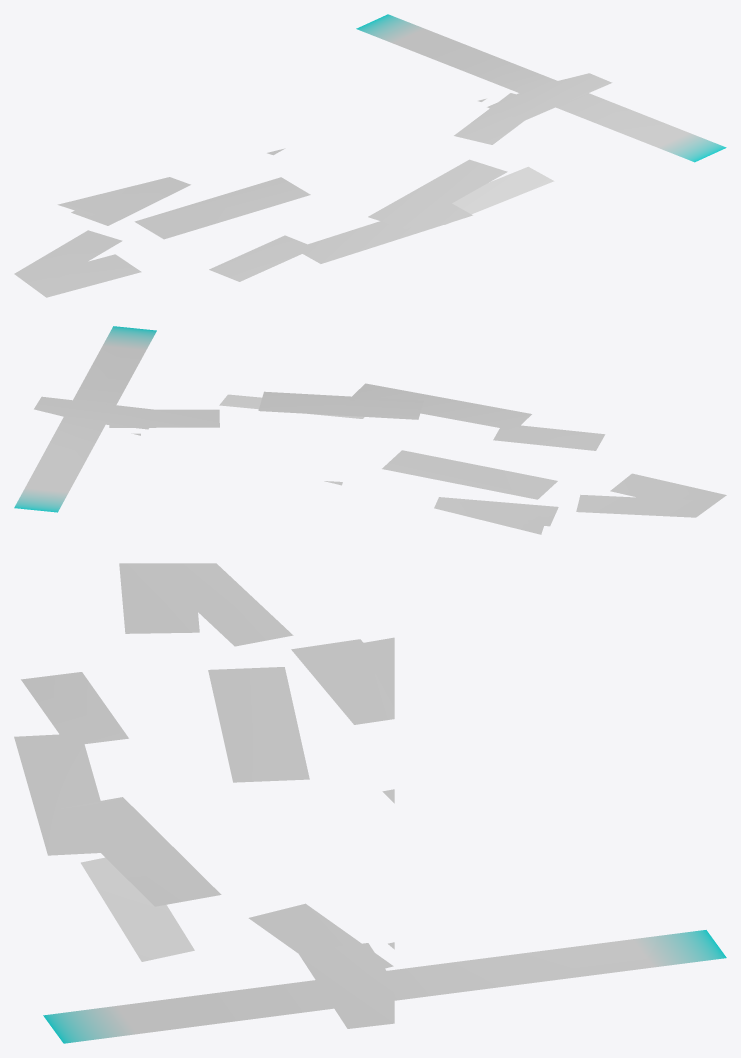
Rendered from cell_153_110.fbx.
The picture shows the model from 3 angles, top to bottom: view 1: azimuth 30°, elevation 25°; view 2: azimuth 150°, elevation 25°; view 3: azimuth 270°, elevation 25°; orthographic projection. The views are drawn at different scales.
Parts seen in each view (by area): view 1: SpaceCenter_Long3_GenerateRoad_Asphalt_PCGMesh_Macadam_Deca., SpaceCenter_Long3_GenerateRoad_Asphalt_PCGMesh_Decal_Mesh_x., SpaceCenter_Long3_GenerateRoad_Asphalt_PCGMesh_Decal_Mesh_x9, SpaceCenter_Long3_GenerateRoad_JTDecal_Asphalt_BM_Line_Mesh.; view 2: SpaceCenter_Long3_GenerateRoad_Asphalt_PCGMesh_Macadam_Deca., SpaceCenter_Long3_GenerateRoad_Asphalt_PCGMesh_Decal_Mesh_x., SpaceCenter_Long3_GenerateRoad_Asphalt_PCGMesh_Decal_Mesh_x9, SpaceCenter_Long3_GenerateRoad_JTDecal_Asphalt_BM_Line_Mesh.; view 3: SpaceCenter_Long3_GenerateRoad_Asphalt_PCGMesh_Macadam_Deca., SpaceCenter_Long3_GenerateRoad_Asphalt_PCGMesh_Decal_Mesh_x., SpaceCenter_Long3_GenerateRoad_Asphalt_PCGMesh_Decal_Mesh_x9, SpaceCenter_Long3_GenerateRoad_JTDecal_Asphalt_BM_Line_Mesh..
Part boxes in pixels (x1,y1,x2,y2): SpaceCenter_Long3_GenerateRoad_Asphalt_PCGMesh_Macadam_Deca.: [14, 73, 612, 297]; SpaceCenter_Long3_GenerateRoad_Asphalt_PCGMesh_Decal_Mesh_x.: [356, 14, 557, 91]; SpaceCenter_Long3_GenerateRoad_Asphalt_PCGMesh_Decal_Mesh_x9: [515, 87, 726, 162]; SpaceCenter_Long3_GenerateRoad_JTDecal_Asphalt_BM_Line_Mesh.: [444, 166, 554, 224]; SpaceCenter_Long3_GenerateRoad_Asphalt_PCGMesh_Macadam_Deca.: [34, 383, 726, 534]; SpaceCenter_Long3_GenerateRoad_Asphalt_PCGMesh_Decal_Mesh_x.: [14, 417, 104, 512]; SpaceCenter_Long3_GenerateRoad_Asphalt_PCGMesh_Decal_Mesh_x9: [73, 326, 156, 426]; SpaceCenter_Long3_GenerateRoad_JTDecal_Asphalt_BM_Line_Mesh.: [219, 394, 364, 418]; SpaceCenter_Long3_GenerateRoad_Asphalt_PCGMesh_Macadam_Deca.: [14, 563, 394, 1028]; SpaceCenter_Long3_GenerateRoad_Asphalt_PCGMesh_Decal_Mesh_x.: [394, 930, 726, 1000]; SpaceCenter_Long3_GenerateRoad_Asphalt_PCGMesh_Decal_Mesh_x9: [43, 970, 394, 1043]; SpaceCenter_Long3_GenerateRoad_JTDecal_Asphalt_BM_Line_Mesh.: [81, 857, 194, 961].
Size of the model in its own units: 16.2 by 0.4006 by 10.09.
